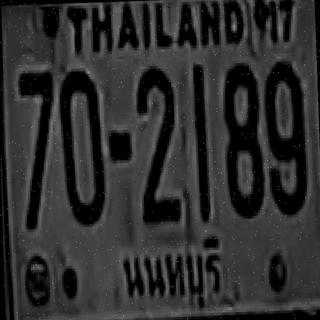N00: (58, 68, 104, 222)
N02: (135, 65, 182, 225)
N07: (17, 71, 56, 231)
N08: (220, 61, 263, 215)
N09: (263, 64, 306, 212)
P37: (107, 224, 230, 312)
